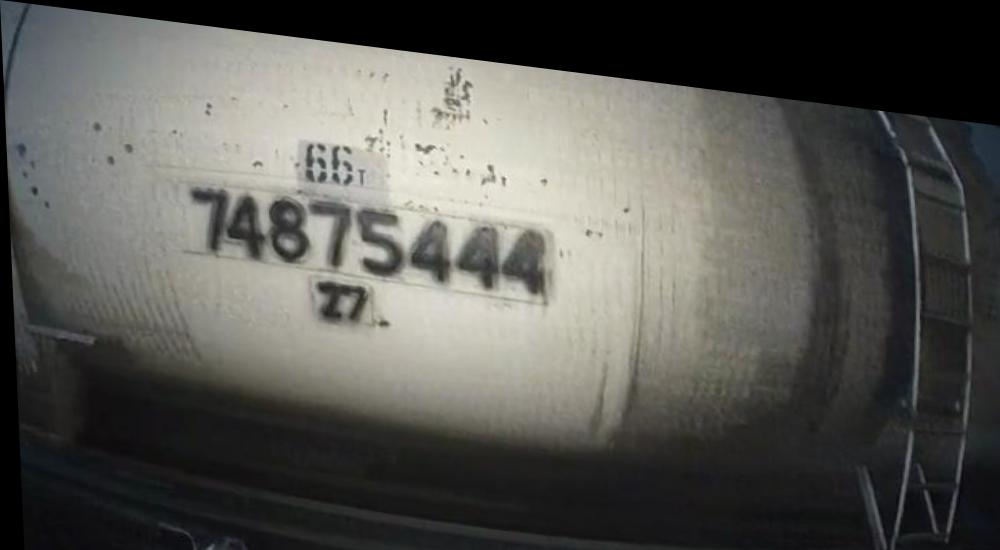Wagon-number: (184, 176, 550, 292)
